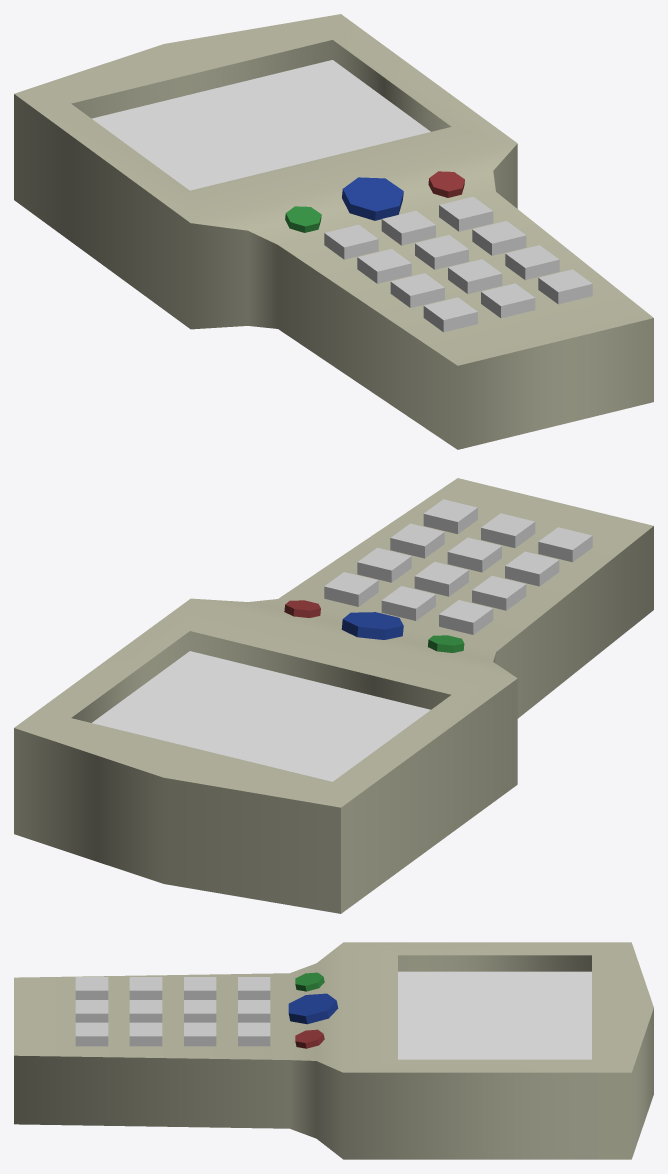
File: RFID-Writer_01.fbx
3 views of the same model, one above another, from view 1: azimuth 30°, elevation 25°; view 2: azimuth 150°, elevation 25°; view 3: azimuth 270°, elevation 25° (orthographic). The views are drawn at different scales.
Parts seen in each view (by area): view 1: RFID_Writer, RFID_Screen; view 2: RFID_Writer, RFID_Screen; view 3: RFID_Writer, RFID_Screen.
Part boxes in pixels (x1,y1,x2,y2): RFID_Writer: [14, 14, 653, 449]; RFID_Screen: [92, 60, 430, 190]; RFID_Writer: [14, 478, 653, 913]; RFID_Screen: [92, 651, 430, 781]; RFID_Writer: [14, 942, 653, 1159]; RFID_Screen: [398, 971, 591, 1059].
Bounding box in the file's own units: 0.114 × 0.0383 × 0.2367.
